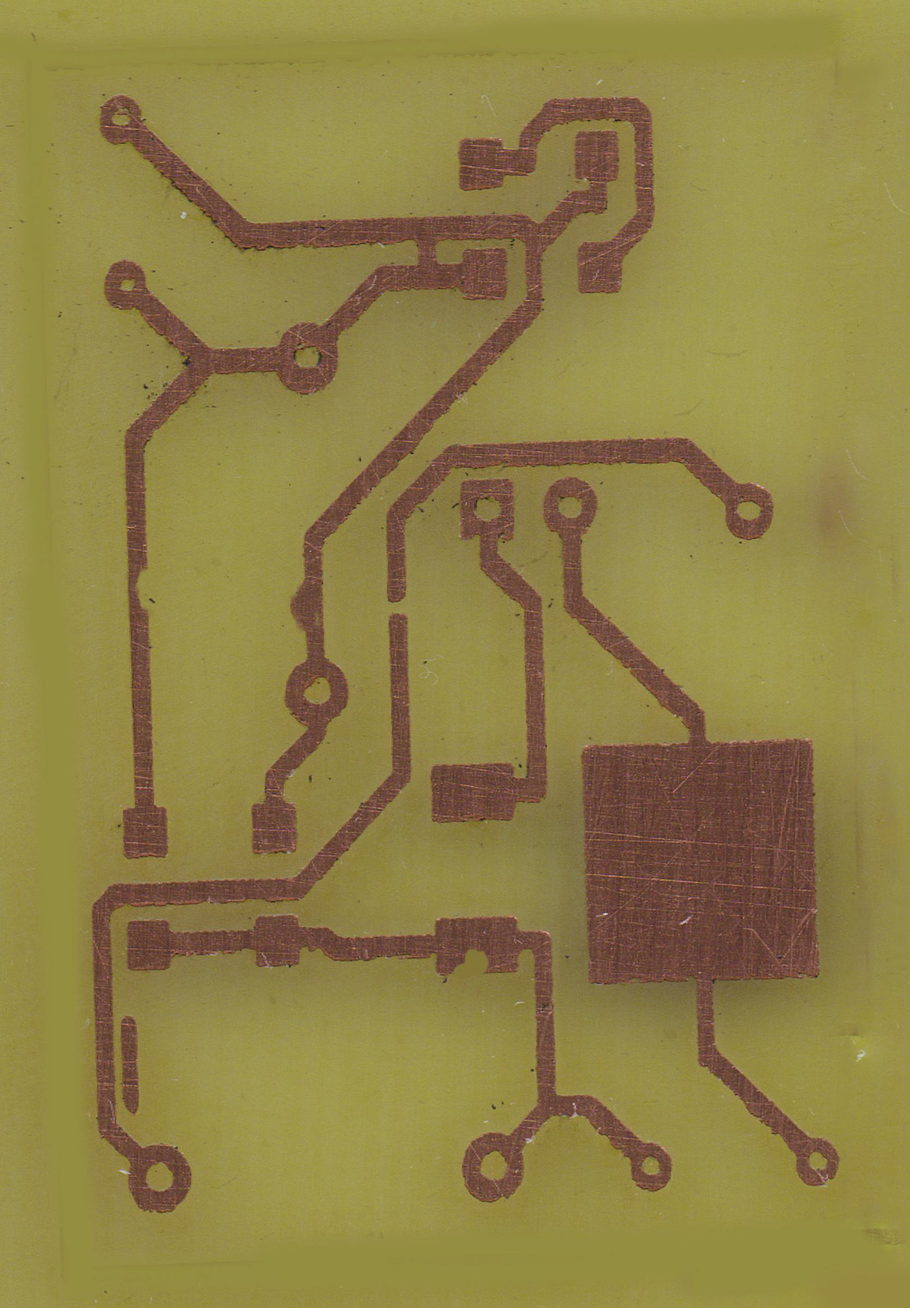missing_hole: (433, 916, 519, 976)
mouse_bite: (128, 564, 151, 617)
open_circuit: (387, 593, 408, 626)
short: (410, 215, 446, 290)
spur: (288, 577, 324, 635)
spurious_copper: (119, 1015, 141, 1115)
